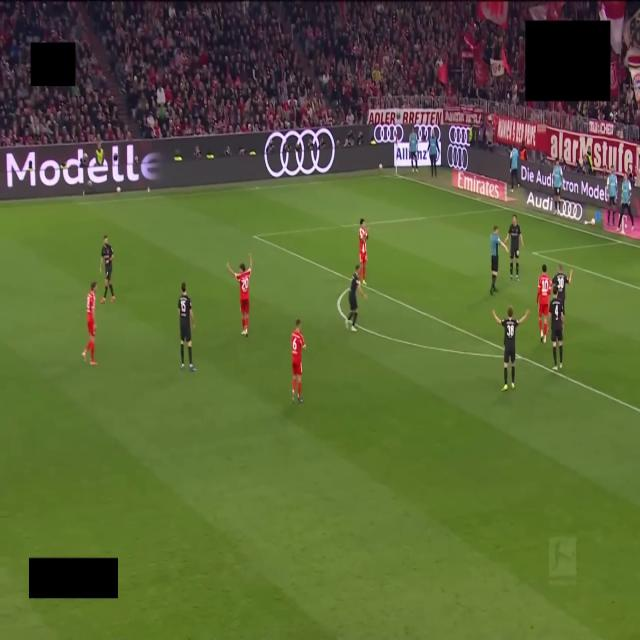player: (492, 307, 529, 391), (227, 255, 252, 336), (178, 282, 195, 372), (346, 266, 366, 331), (505, 216, 524, 280), (550, 285, 564, 370), (537, 264, 552, 343), (82, 281, 96, 365), (291, 320, 305, 403), (100, 236, 115, 303), (552, 264, 572, 310), (359, 219, 368, 285)
referee: (490, 226, 508, 295)
